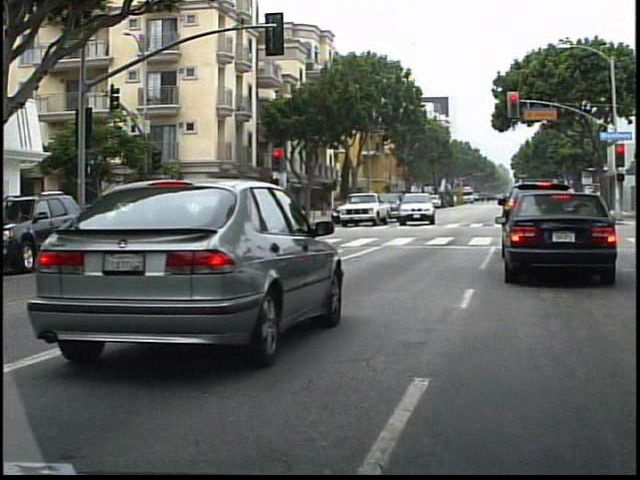person: (165, 191, 183, 237), (185, 193, 203, 234)
